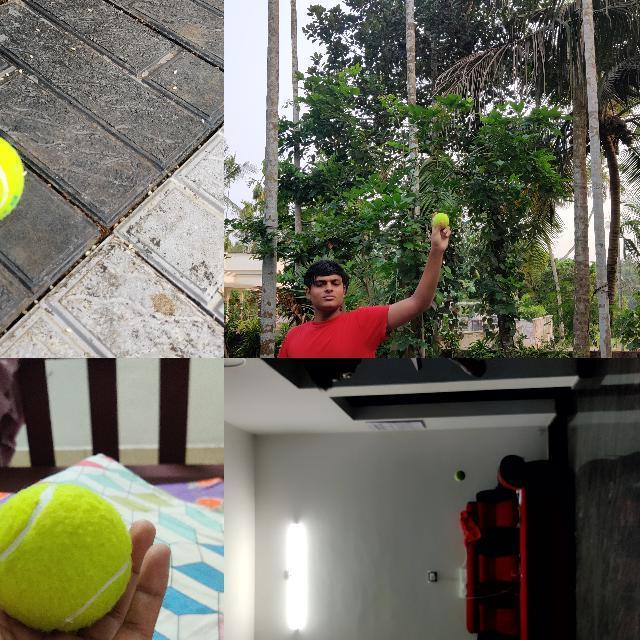tennis-ball: (0, 483, 132, 632), (0, 129, 26, 227), (433, 213, 449, 230), (455, 470, 466, 480)
